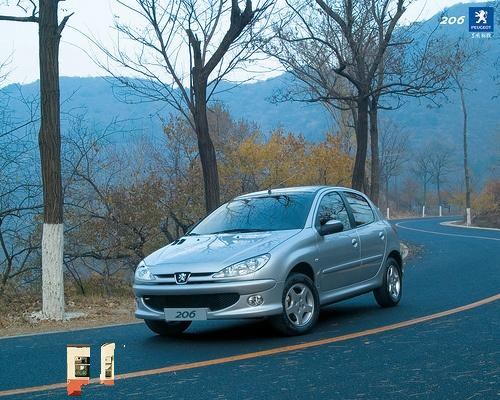tampered: (68, 344, 125, 396)
